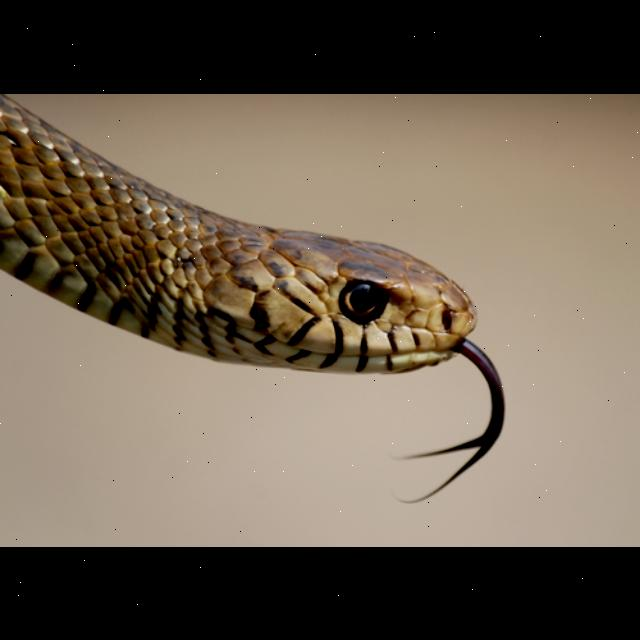snake: (1, 93, 522, 503)
